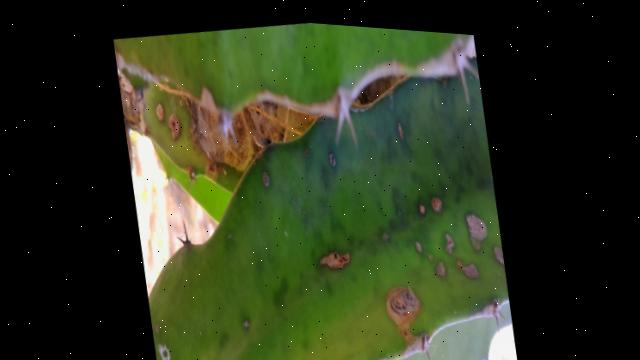stemcanker: (384, 285, 426, 334), (462, 211, 490, 253), (315, 250, 355, 277), (440, 233, 458, 257), (323, 150, 341, 174), (429, 192, 446, 217), (415, 196, 432, 219), (260, 167, 275, 191), (437, 259, 449, 278)
